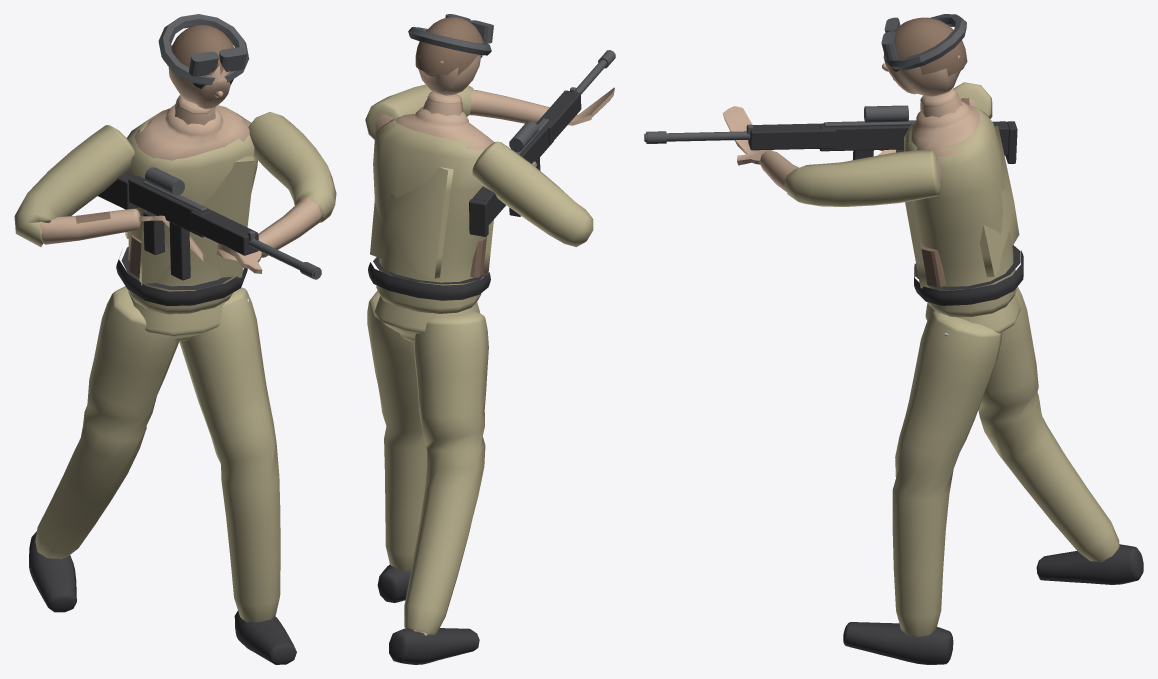
File: tactical-shooter-hill-town-field-engineer-standing-aim-98f90071__27587.glb
3 views of the same model, side by side, from view 1: azimuth 30°, elevation 25°; view 2: azimuth 150°, elevation 25°; view 3: azimuth 270°, elevation 25° (orthographic). The views are drawn at different scales.
Visible parts, largest first — view 1: field-engineer-standing-aim; view 2: field-engineer-standing-aim; view 3: field-engineer-standing-aim.
Part boxes in pixels (bbox=[...]): field-engineer-standing-aim: bbox=[14, 14, 336, 664]; field-engineer-standing-aim: bbox=[365, 14, 615, 664]; field-engineer-standing-aim: bbox=[644, 14, 1143, 664].
Bounding box in the file's own units: 0.745 × 1.74 × 1.27.
